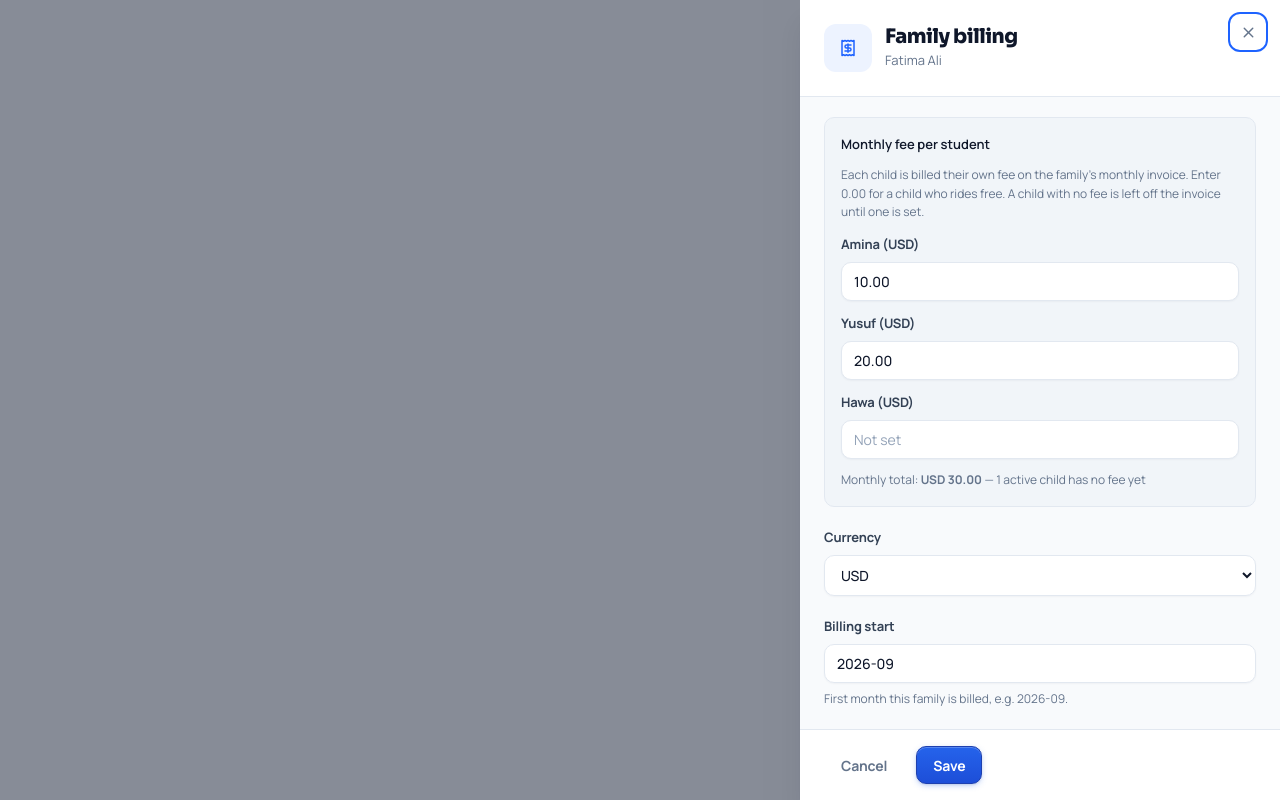
Test case: BillingProfileForm (ADR-0048 per-student fees) › shows each child's own fee and the family total the next invoice bills
This screenshot has width=1280, height=800.
Expected: the field named "Monthly fee for Amina" holds "10.00", [841,262,1239,301]
Expected: the field named "Monthly fee for Yusuf" holds "20.00", [841,341,1239,380]
Type "30.00" into the field named "Monthly fee for Hawa". click: [1040, 440]
box: [841,420,1239,459]
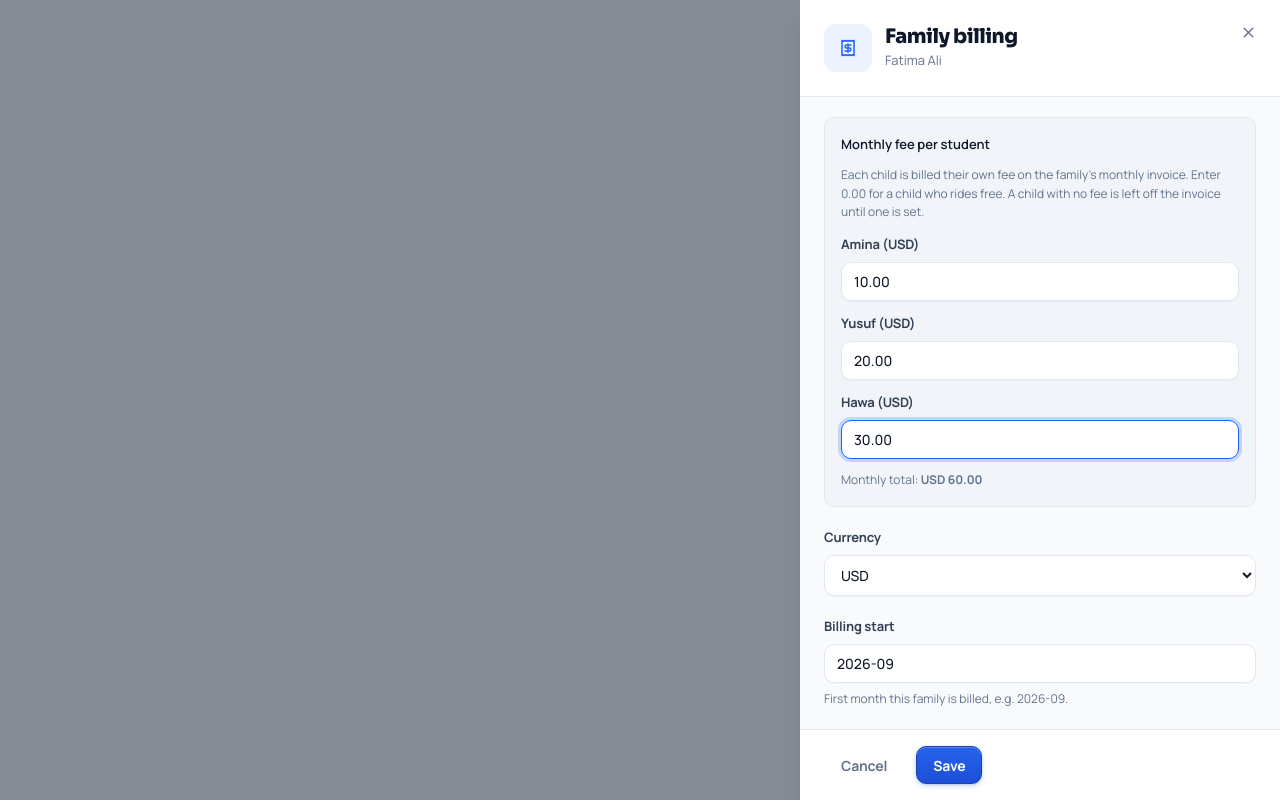
Expected: the text "Monthly total: USD 60.00" is shown, [841,471,982,488]
